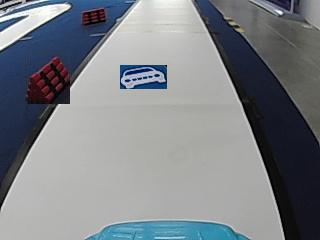bomb: (82, 6, 107, 24)
